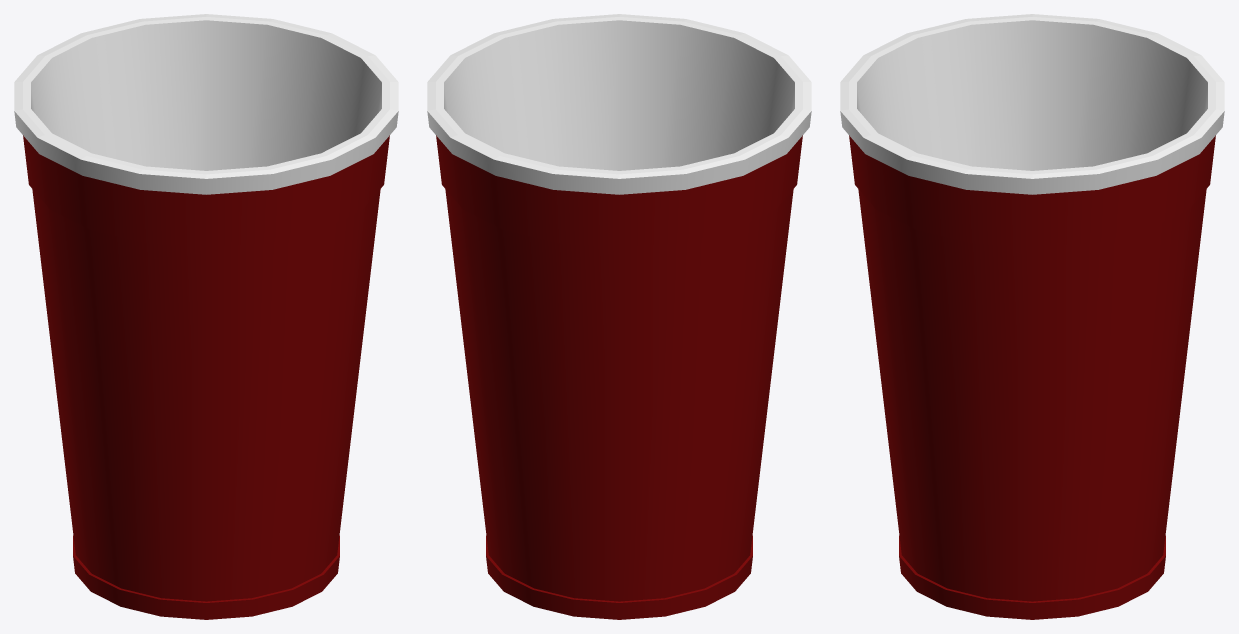
Rendered from cup_01.FBX.
3 views of the same model, side by side, from view 1: azimuth 30°, elevation 25°; view 2: azimuth 150°, elevation 25°; view 3: azimuth 270°, elevation 25° (orthographic).
Parts seen in each view (by area): view 1: Cylinder026; view 2: Cylinder026; view 3: Cylinder026.
Part boxes in pixels (bbox=[...]): Cylinder026: bbox=[14, 14, 398, 619]; Cylinder026: bbox=[427, 14, 811, 619]; Cylinder026: bbox=[840, 14, 1224, 619].
Bounding box in the file's own units: 15.04 × 19.89 × 14.81.
